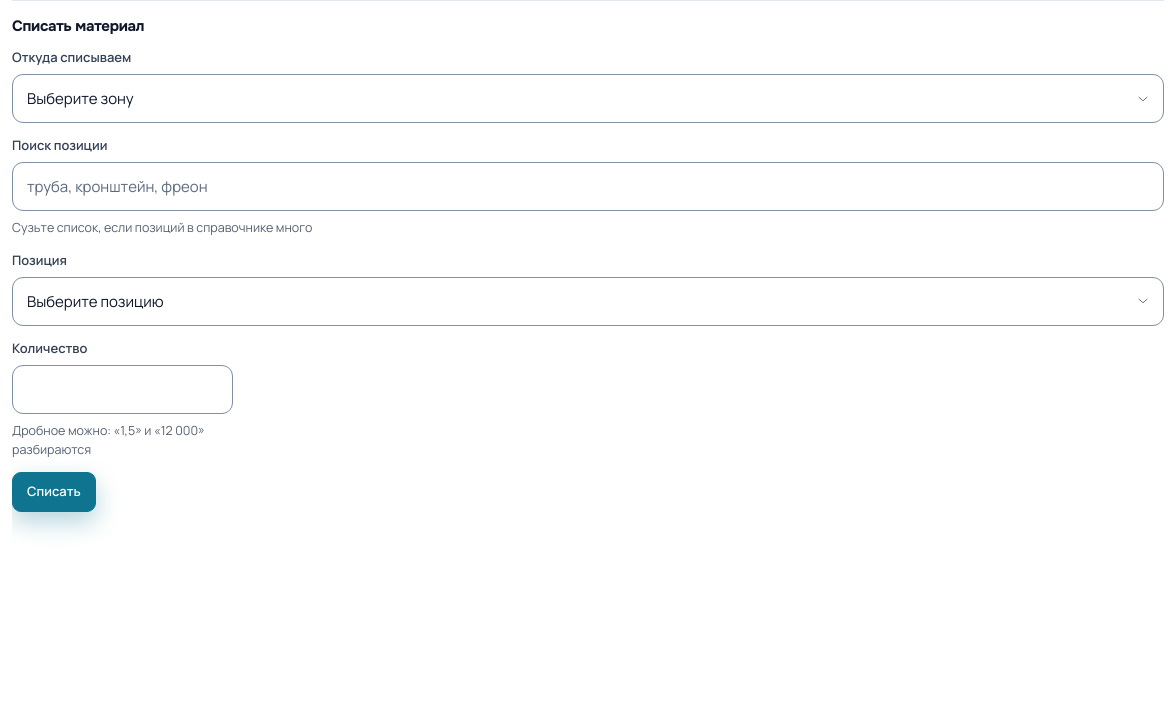
Scenario: Списание материала на наряд › серийные номера спрашиваются у техники и не спрашиваются у расходника
Select "Труба медная 1/4″" in the dropdown labelled "Позиция" at (588, 301), box x1=12 y1=277 x2=1164 y2=326
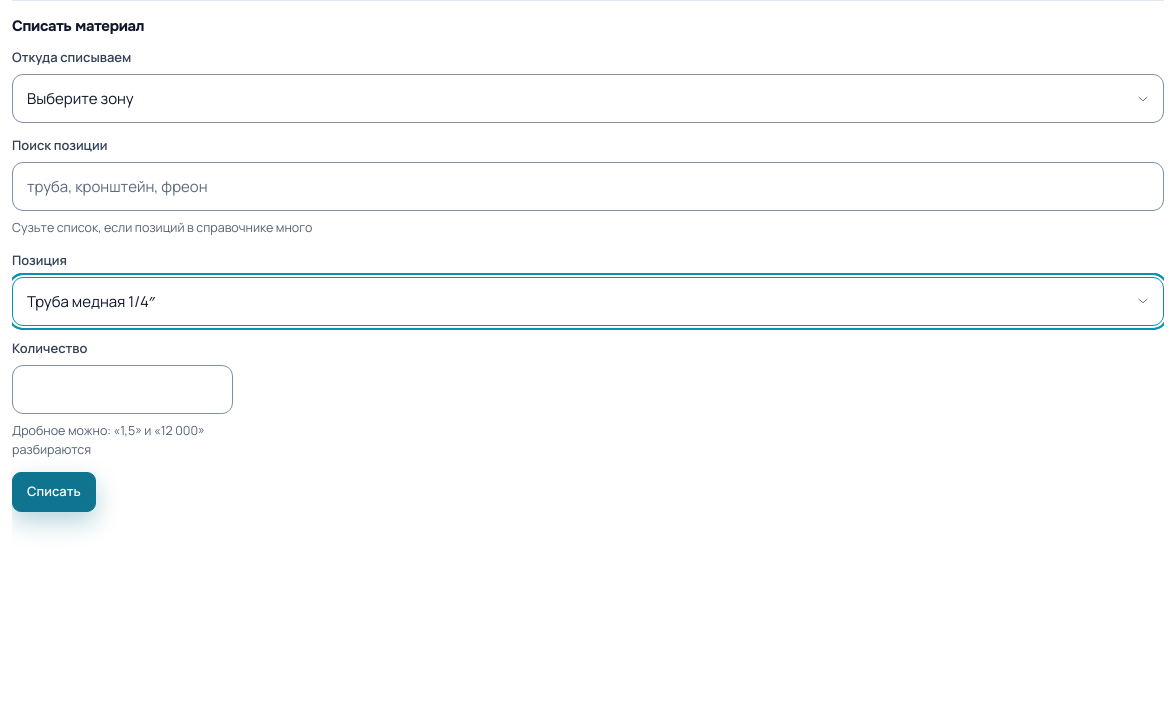
Expected: the field labelled "Серийные номера" is not shown
Select "Сплит-система 09" in the dropdown labelled "Позиция" at (588, 301), box x1=12 y1=277 x2=1164 y2=326
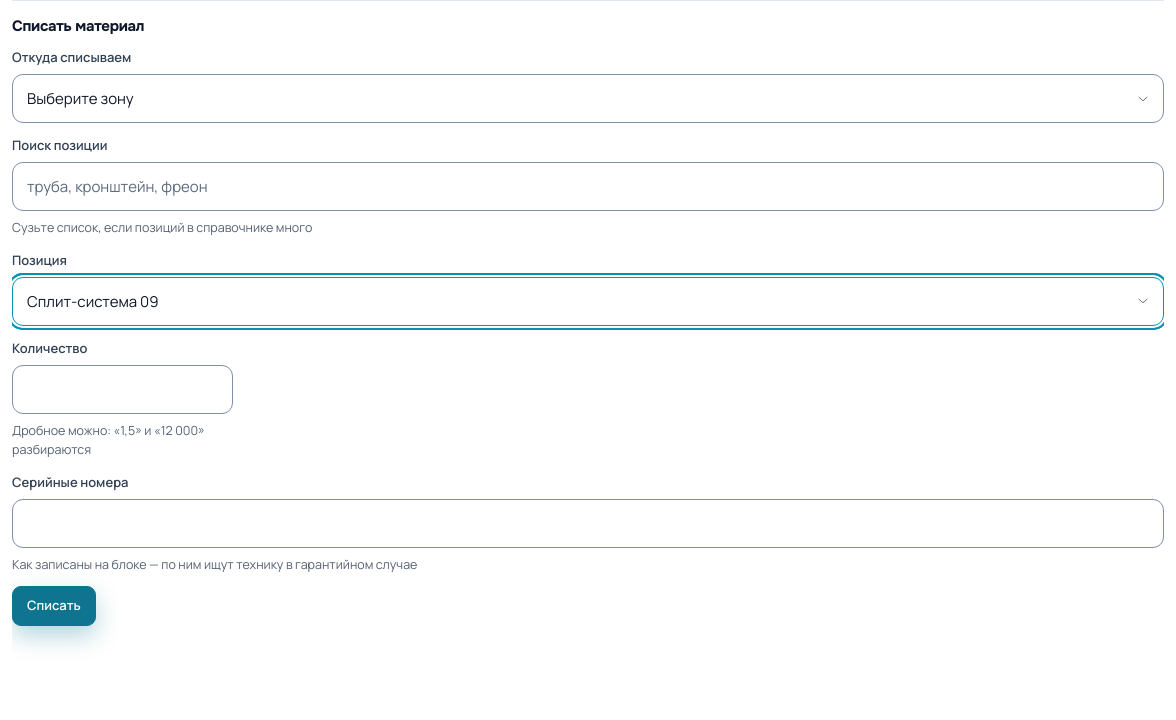
Now the field labelled "Серийные номера" is shown, box x1=12 y1=499 x2=1164 y2=548
